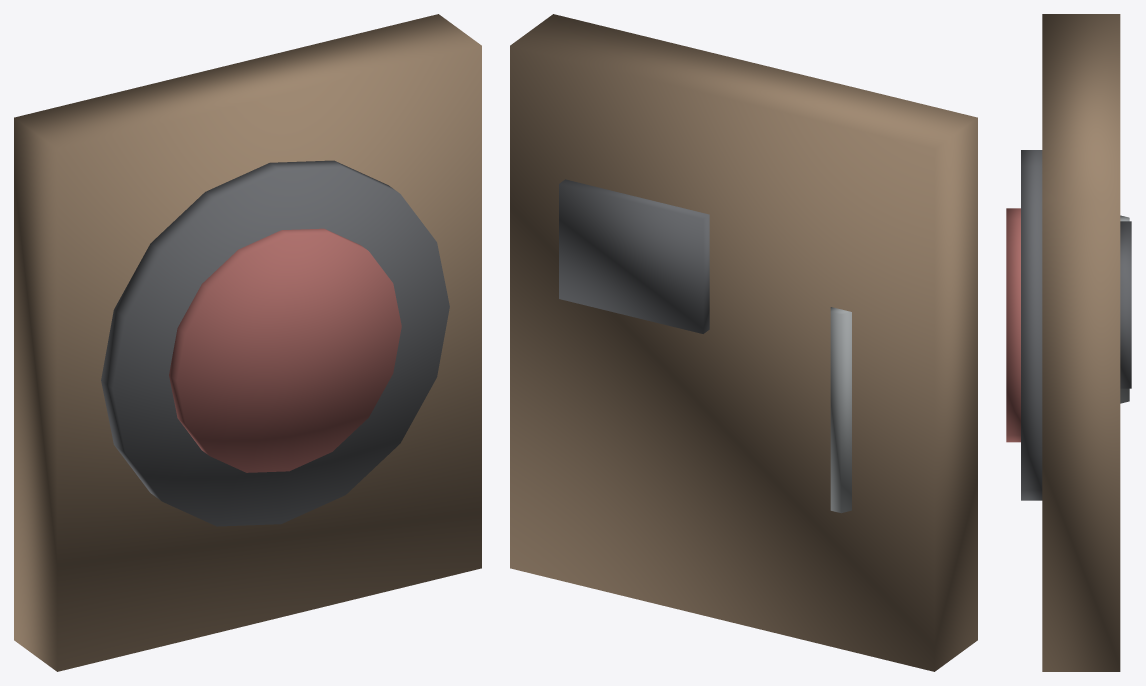
File: dartboard_cabinet__service.glb
3 views of the same model, side by side, from view 1: azimuth 30°, elevation 25°; view 2: azimuth 150°, elevation 25°; view 3: azimuth 270°, elevation 25° (orthographic). The views are drawn at different scales.
Parts seen in each view (by area): view 1: world; view 2: world; view 3: world.
Part boxes in pixels (x1,y1,x2,y2): world: (14, 14, 481, 671); world: (510, 14, 977, 671); world: (1006, 14, 1131, 671).
Size of the model in its own units: 0.68 by 0.8 by 0.1925.
